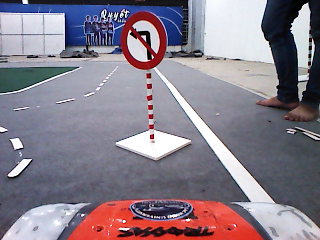ban: (120, 10, 168, 70)
